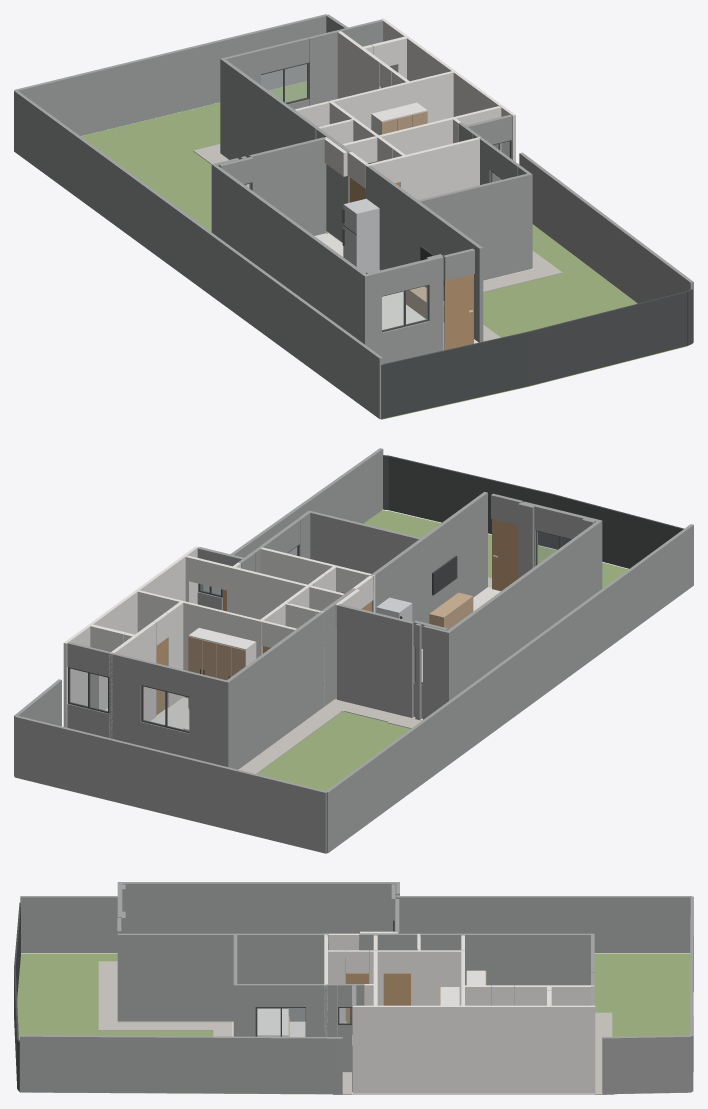
The model's file is casa.glb.
3 renders of one model, top to bottom at view 1: azimuth 30°, elevation 25°; view 2: azimuth 150°, elevation 25°; view 3: azimuth 270°, elevation 25°, orthographic. The views are drawn at different scales.
Visible parts, largest first — view 1: fachada, parede, esquadria, grama, vidro, inox, door4_swing__porta, concreto, piso, madeira, armario; view 2: fachada, parede, esquadria, grama, vidro, madeira, concreto, door4_swing__porta, piso, armario, preto, inox; view 3: fachada, parede, grama, concreto, vidro, esquadria, piso, door6_swing__porta, enxoval, armario, door0_swing__porta.
Part boxes in pixels (left/top/right/bottom): fachada: left=14, top=14, right=693, bottom=418; parede: left=294, top=18, right=515, bottom=200; esquadria: left=244, top=62, right=692, bottom=418; grama: left=81, top=81, right=691, bottom=419; vidro: left=245, top=64, right=509, bottom=330; inox: left=343, top=198, right=379, bottom=273; door4_swing__porta: left=444, top=274, right=473, bottom=350; concreto: left=193, top=144, right=562, bottom=341; piso: left=314, top=233, right=533, bottom=349; madeira: left=381, top=111, right=444, bottom=321; armario: left=371, top=102, right=427, bottom=135; fachada: left=14, top=448, right=693, bottom=853; parede: left=63, top=546, right=375, bottom=738; esquadria: left=68, top=455, right=683, bottom=732; grama: left=28, top=510, right=628, bottom=853; vidro: left=70, top=531, right=570, bottom=730; madeira: left=188, top=592, right=473, bottom=707; concreto: left=238, top=577, right=491, bottom=773; door4_swing__porta: left=492, top=519, right=518, bottom=591; piso: left=105, top=587, right=500, bottom=729; armario: left=188, top=628, right=256, bottom=709; preto: left=200, top=556, right=457, bottom=678; inox: left=376, top=597, right=412, bottom=621; fachada: left=20, top=882, right=693, bottom=1094; parede: left=324, top=931, right=595, bottom=1093; grama: left=17, top=953, right=690, bottom=1094; concreto: left=98, top=961, right=614, bottom=1094; vidro: left=257, top=1008, right=349, bottom=1036; esquadria: left=14, top=902, right=394, bottom=1091; piso: left=118, top=1021, right=594, bottom=1094; door6_swing__porta: left=383, top=973, right=410, bottom=1005; enxoval: left=257, top=1009, right=288, bottom=1036; armario: left=440, top=970, right=485, bottom=1005; door0_swing__porta: left=346, top=973, right=368, bottom=1023.
Bounding box in the file's own units: 9.88 × 2.83 × 19.9.
